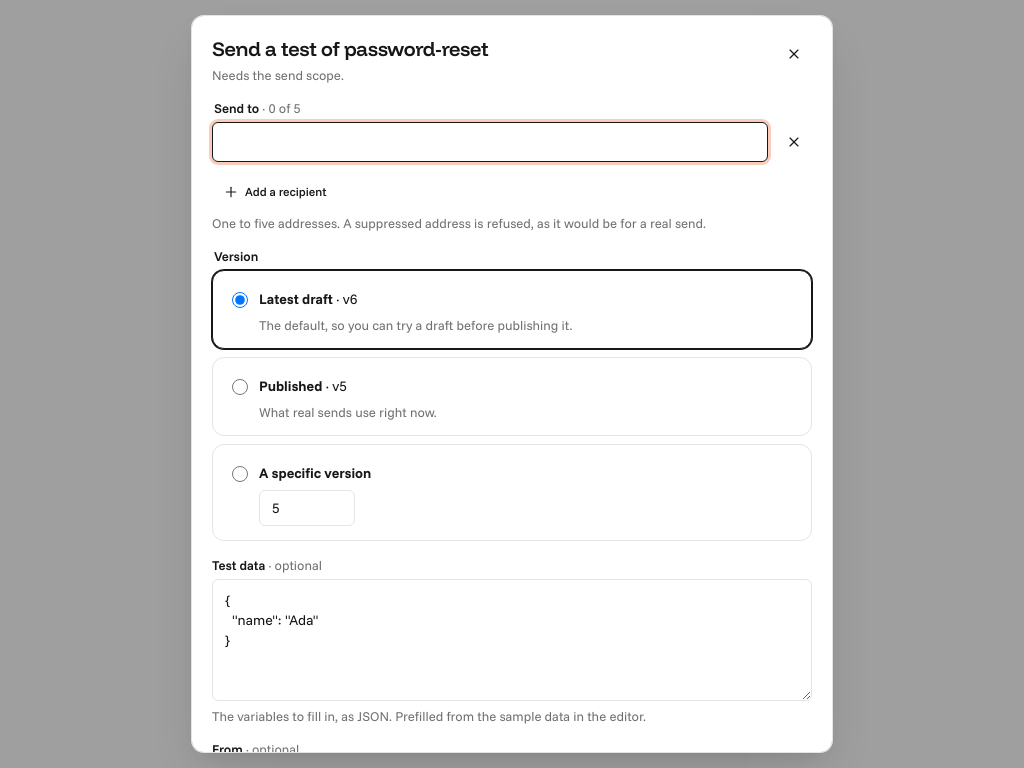
TestSheet › adds recipients up to five, posts the body and shows each result
The width and height of the screenshot is (1024, 768).
Type "ada@x.com" into the field named "Recipient 1" at (490, 142), box [212,122,768,162]
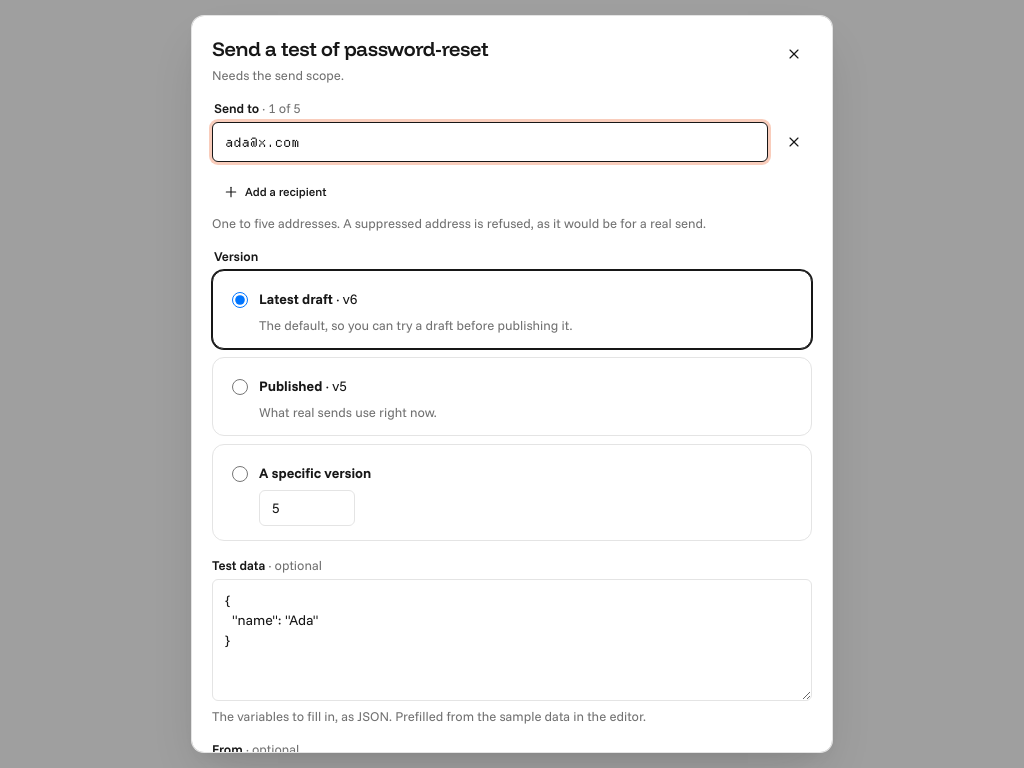
Click the button "Add a recipient" at (275, 192), box [212,176,338,208]
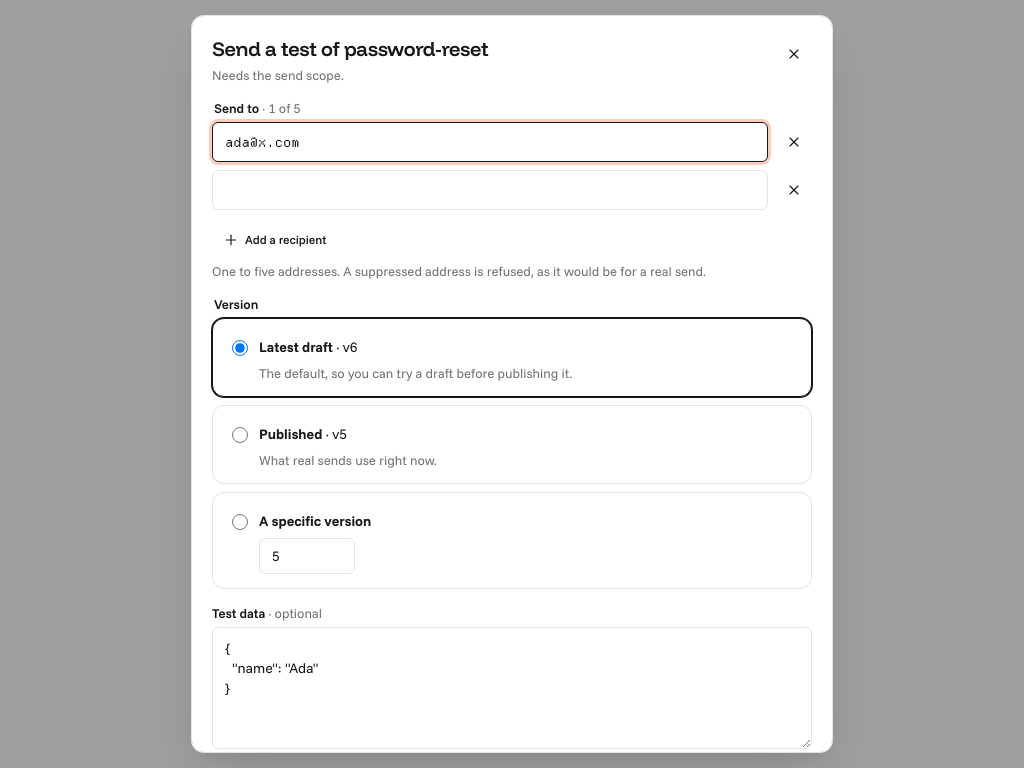
Type "lola@x.com" into the field named "Recipient 2" at (490, 190), box [212,170,768,210]
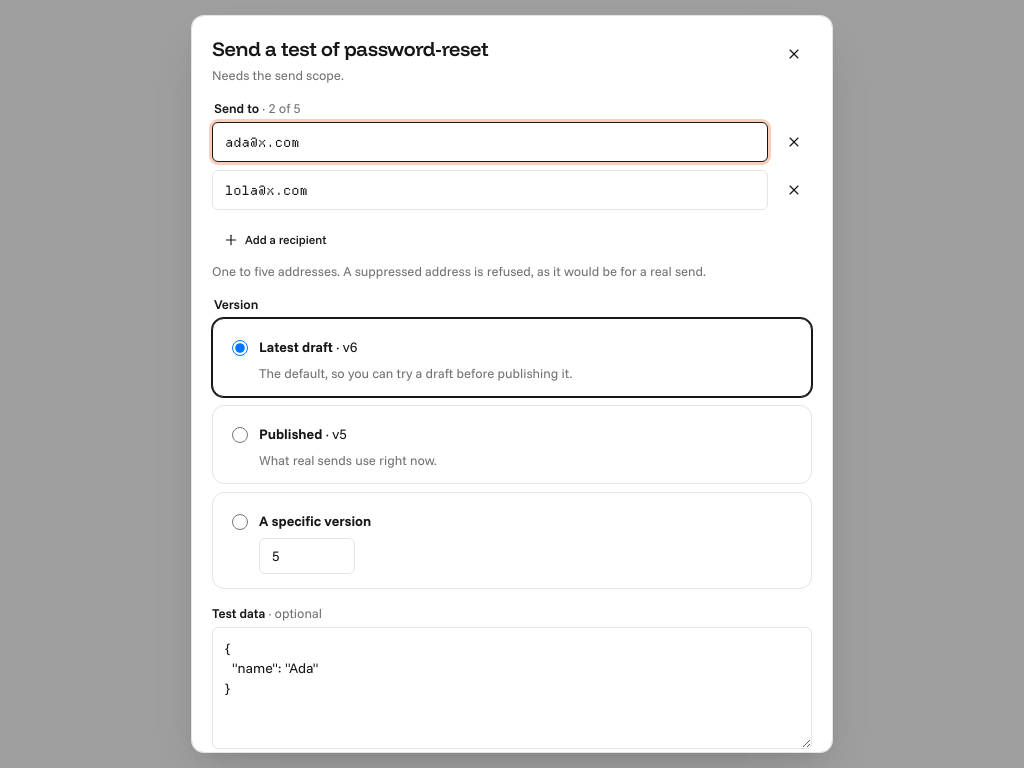
Click the radio button labelled "Published · v5 What real sends use right now." at (240, 435), box [232,423,248,447]
(page scrolled)
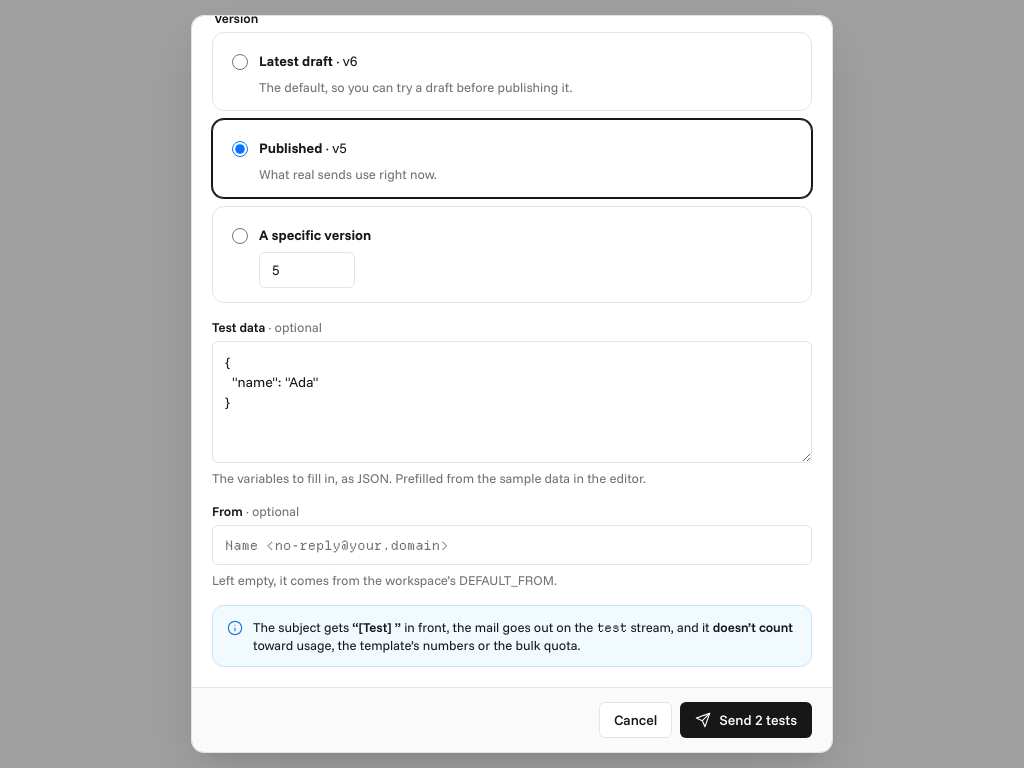
Type "Coursified <no-reply@x.app>" into the field labelled "From · optional" at (512, 545), box [212,525,812,565]
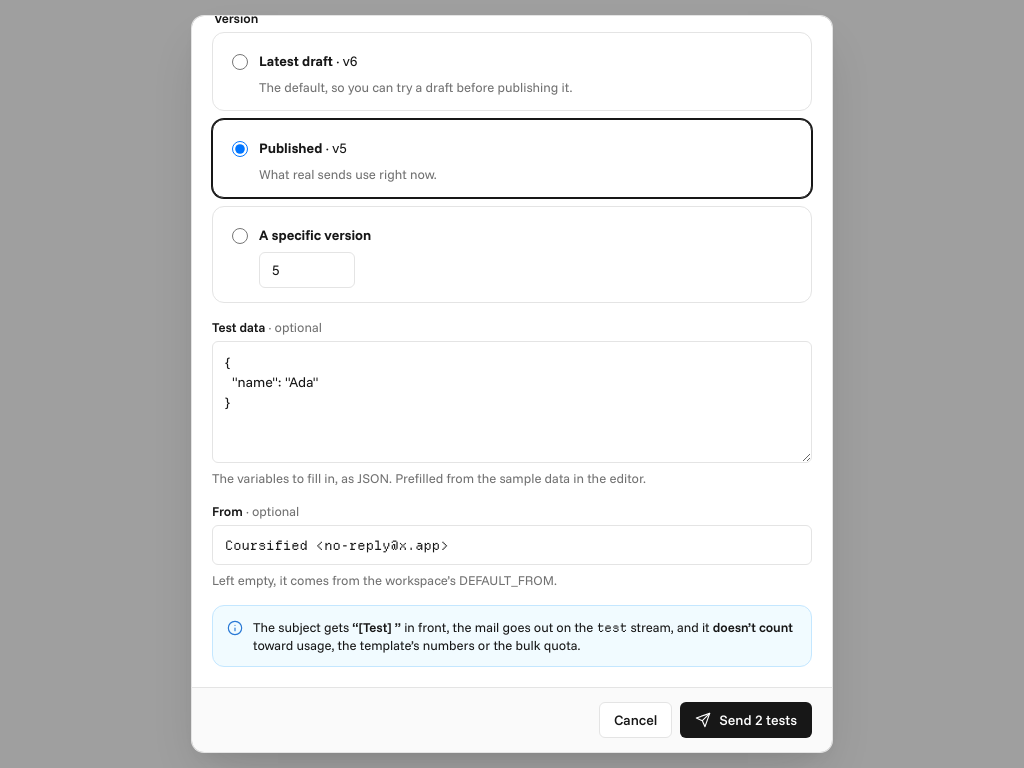
Click the button "Send 2 tests" at (746, 720), box [680,702,812,738]
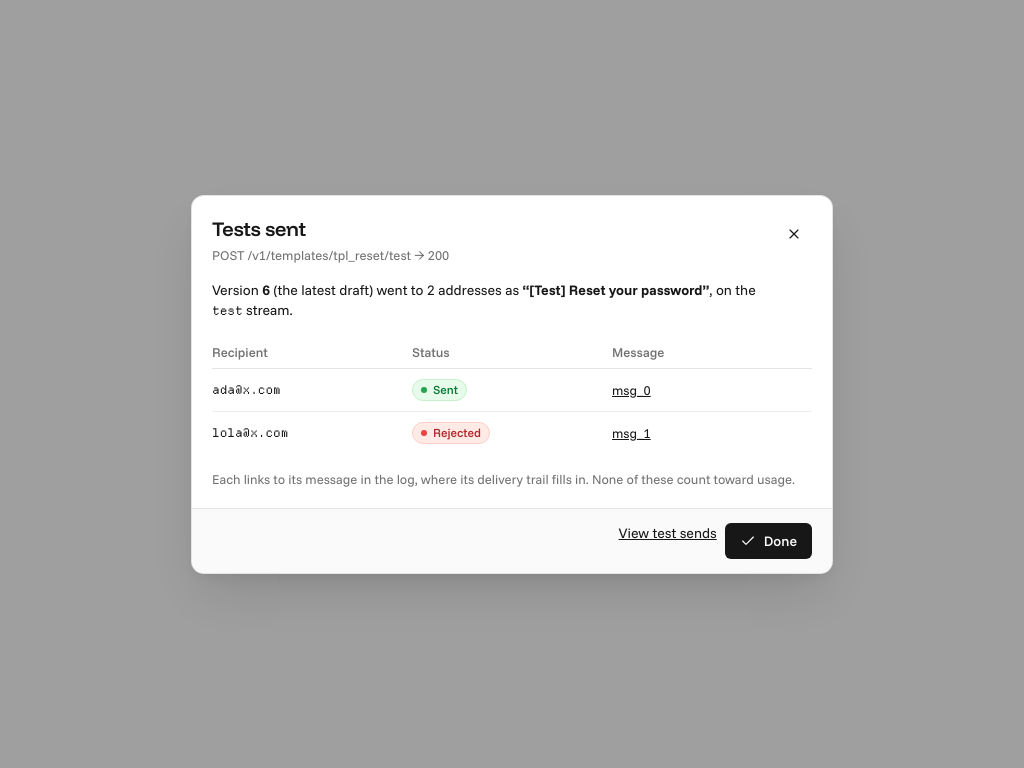
Result: the heading "Tests sent" is shown at [212,216,306,240]
Result: the text "Rejected" is shown at [412,422,490,444]
